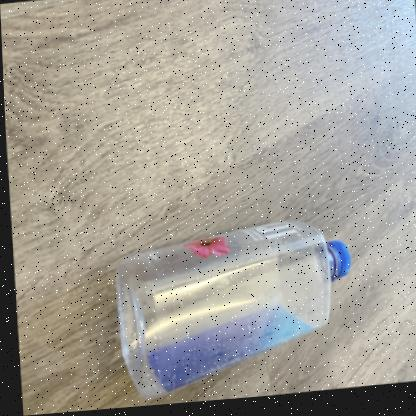Plastic: (112, 228, 347, 401)
